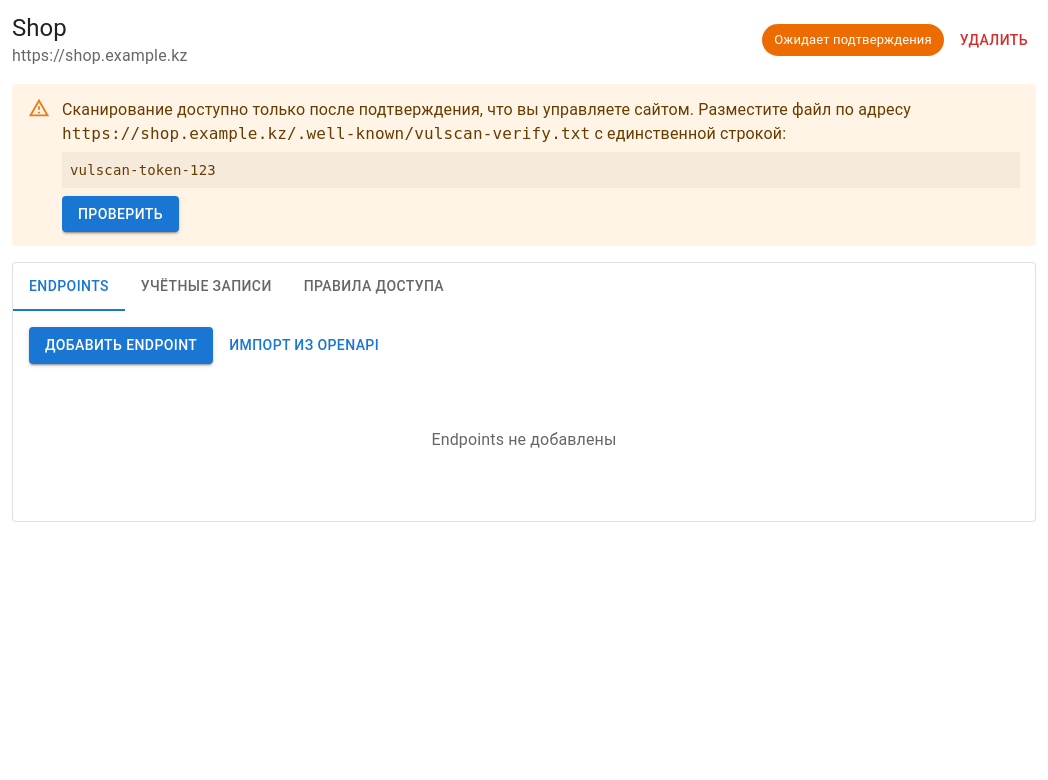
Test: TargetDetailPage › explains a failed verification
The image size is (1048, 780).
Step 1. Click the button "Проверить" → (120, 214), box [62,196,179,232]
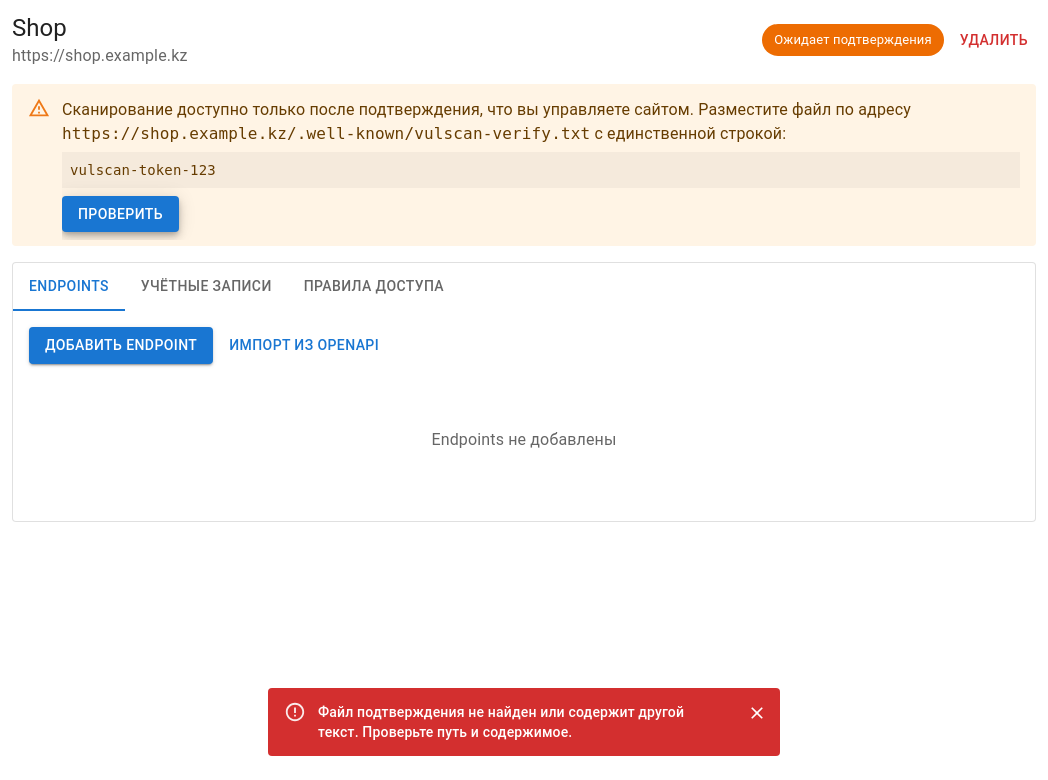
Check: the text "Файл подтверждения не найден" is shown, box [318,704,684,740]
